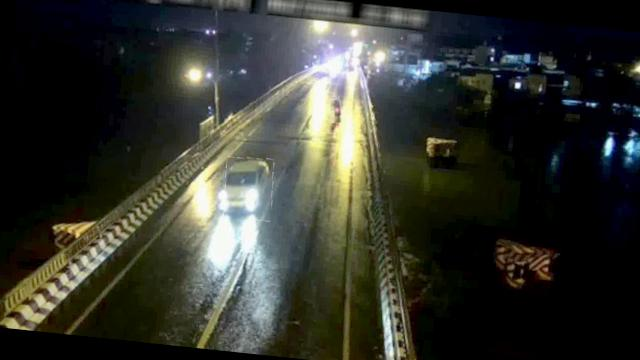Bike: (329, 99, 344, 124)
Car: (222, 155, 276, 222)
